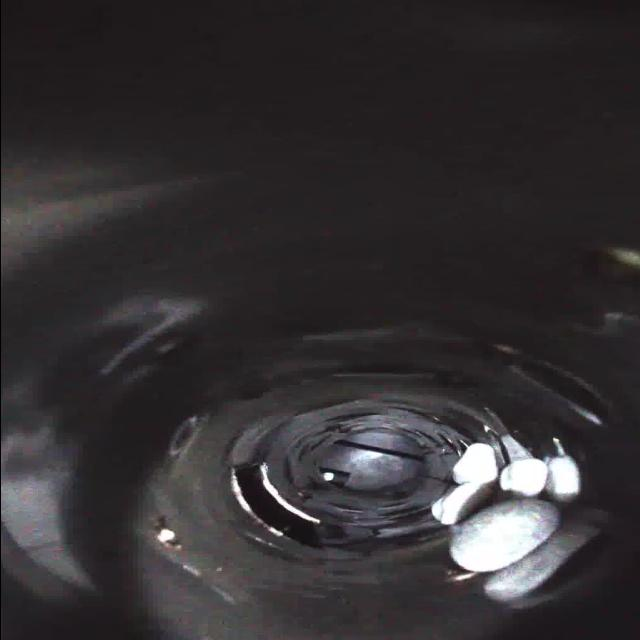crack: (276, 417, 316, 463), (431, 426, 486, 458), (312, 400, 372, 428), (382, 398, 440, 424), (370, 501, 420, 525), (316, 496, 364, 520), (273, 448, 297, 485), (435, 473, 471, 491)
hole: (214, 458, 318, 548)
